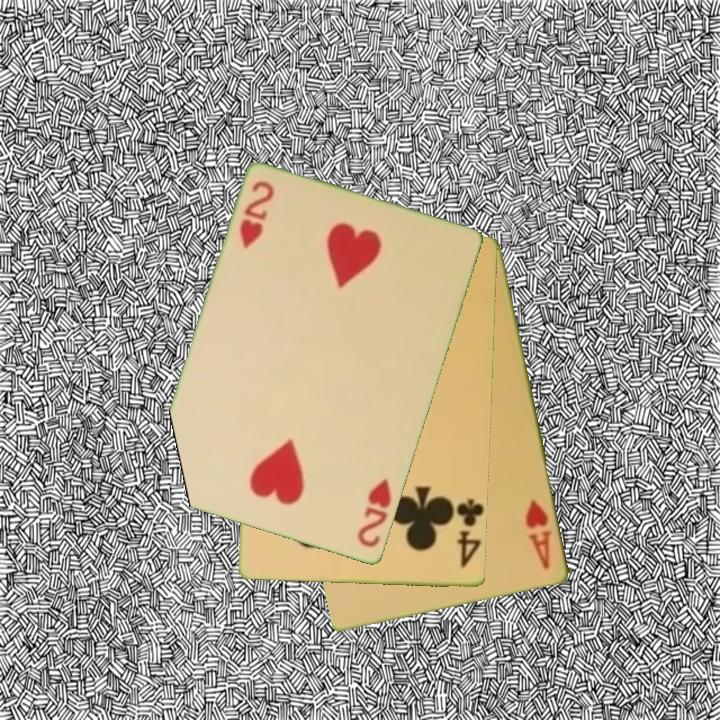2h: (236, 178, 278, 252), (354, 476, 395, 551)
4c: (453, 495, 484, 571)
Ah: (522, 496, 555, 573)
